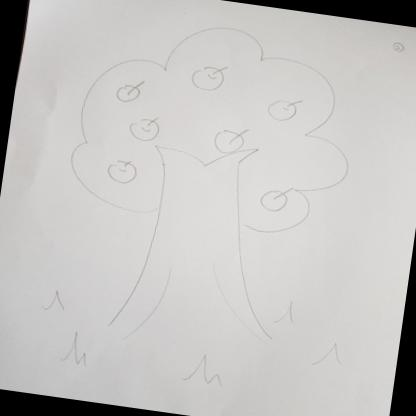apple: (212, 122, 252, 156), (124, 113, 165, 144), (190, 61, 228, 94), (258, 183, 292, 214), (106, 157, 140, 186), (266, 95, 301, 122), (113, 77, 146, 105)
branch_sharp: (150, 134, 256, 184)
trunk_straight: (130, 215, 264, 309)
